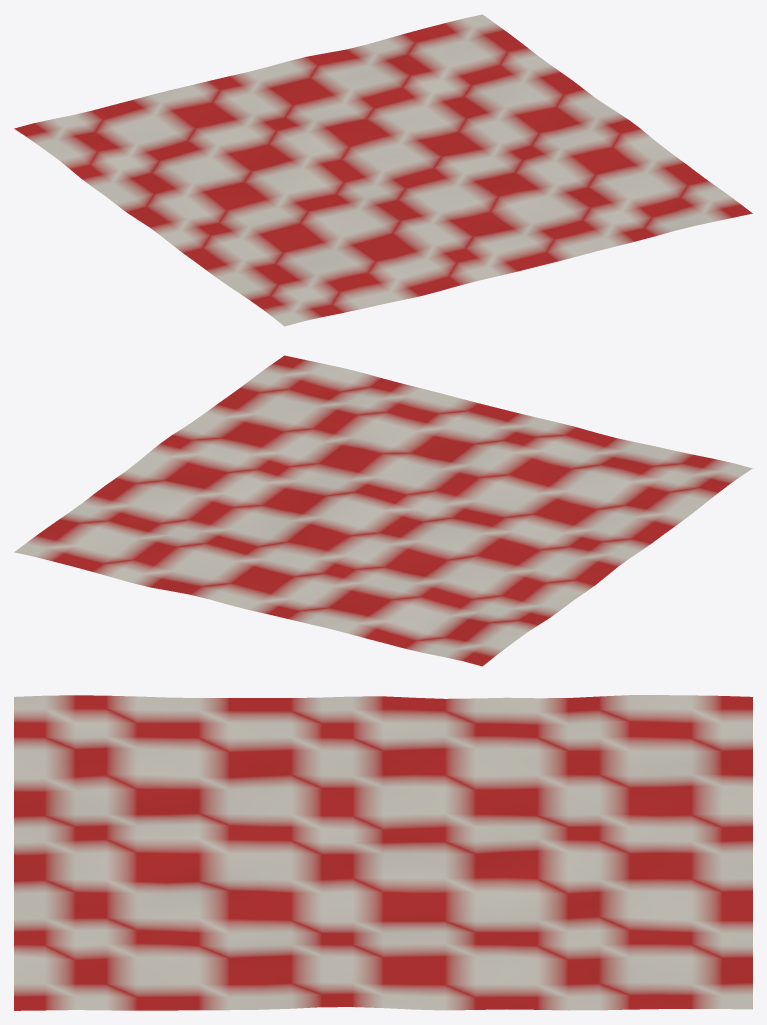
Rendered from Blanket.glb.
3 views of the same model, one above another, from view 1: azimuth 30°, elevation 25°; view 2: azimuth 150°, elevation 25°; view 3: azimuth 270°, elevation 25° (orthographic). The views are drawn at different scales.
Visible parts, largest first — view 1: Cloth; view 2: Cloth; view 3: Cloth.
Boxes of the visible parts, x1=… form: Cloth: x1=14, y1=14, x2=752, y2=326; Cloth: x1=14, y1=355, x2=752, y2=666; Cloth: x1=14, y1=695, x2=752, y2=1010.
Size of the model in its own units: 1.8 by 0.0168 by 1.8.
